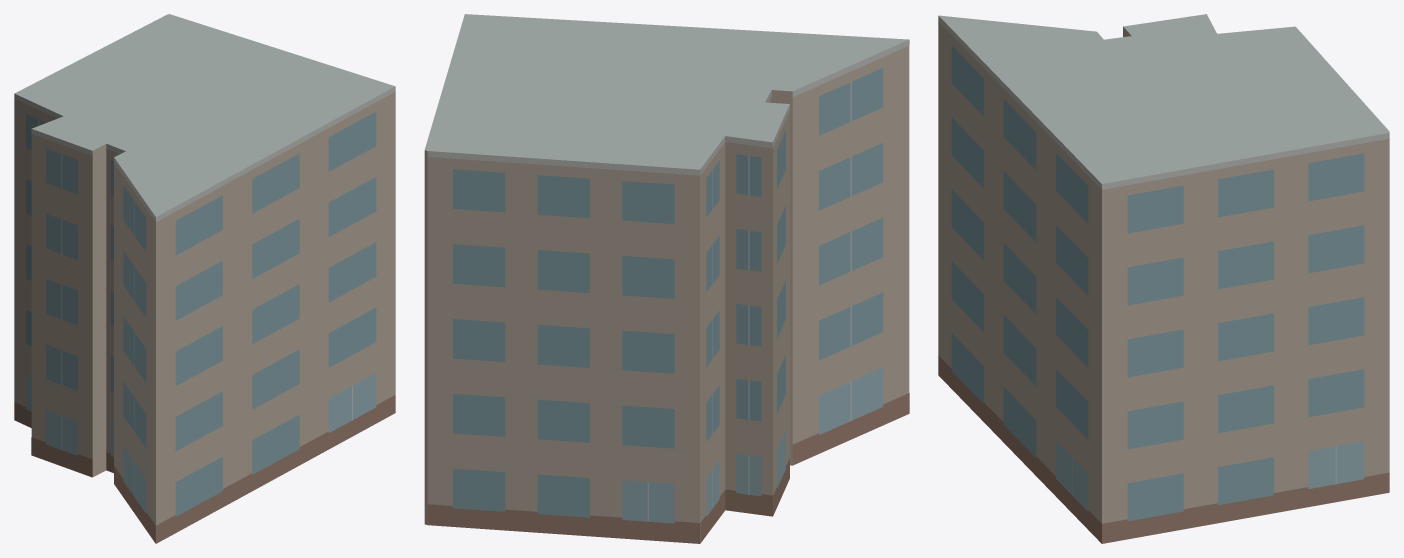
The model's file is survey-upis-32852045.glb.
The picture shows the model from 3 angles, left to right: view 1: azimuth 30°, elevation 25°; view 2: azimuth 150°, elevation 25°; view 3: azimuth 270°, elevation 25°; orthographic projection. The views are drawn at different scales.
Visible parts, largest first — view 1: survey-upis-32852045.tmp; view 2: survey-upis-32852045.tmp; view 3: survey-upis-32852045.tmp.
Part boxes in pixels (x1,y1,x2,y2): survey-upis-32852045.tmp: (14,14,395,543); survey-upis-32852045.tmp: (424,14,909,543); survey-upis-32852045.tmp: (938,14,1389,543).
Size of the model in its own units: 15.56 by 15.33 by 17.44.
